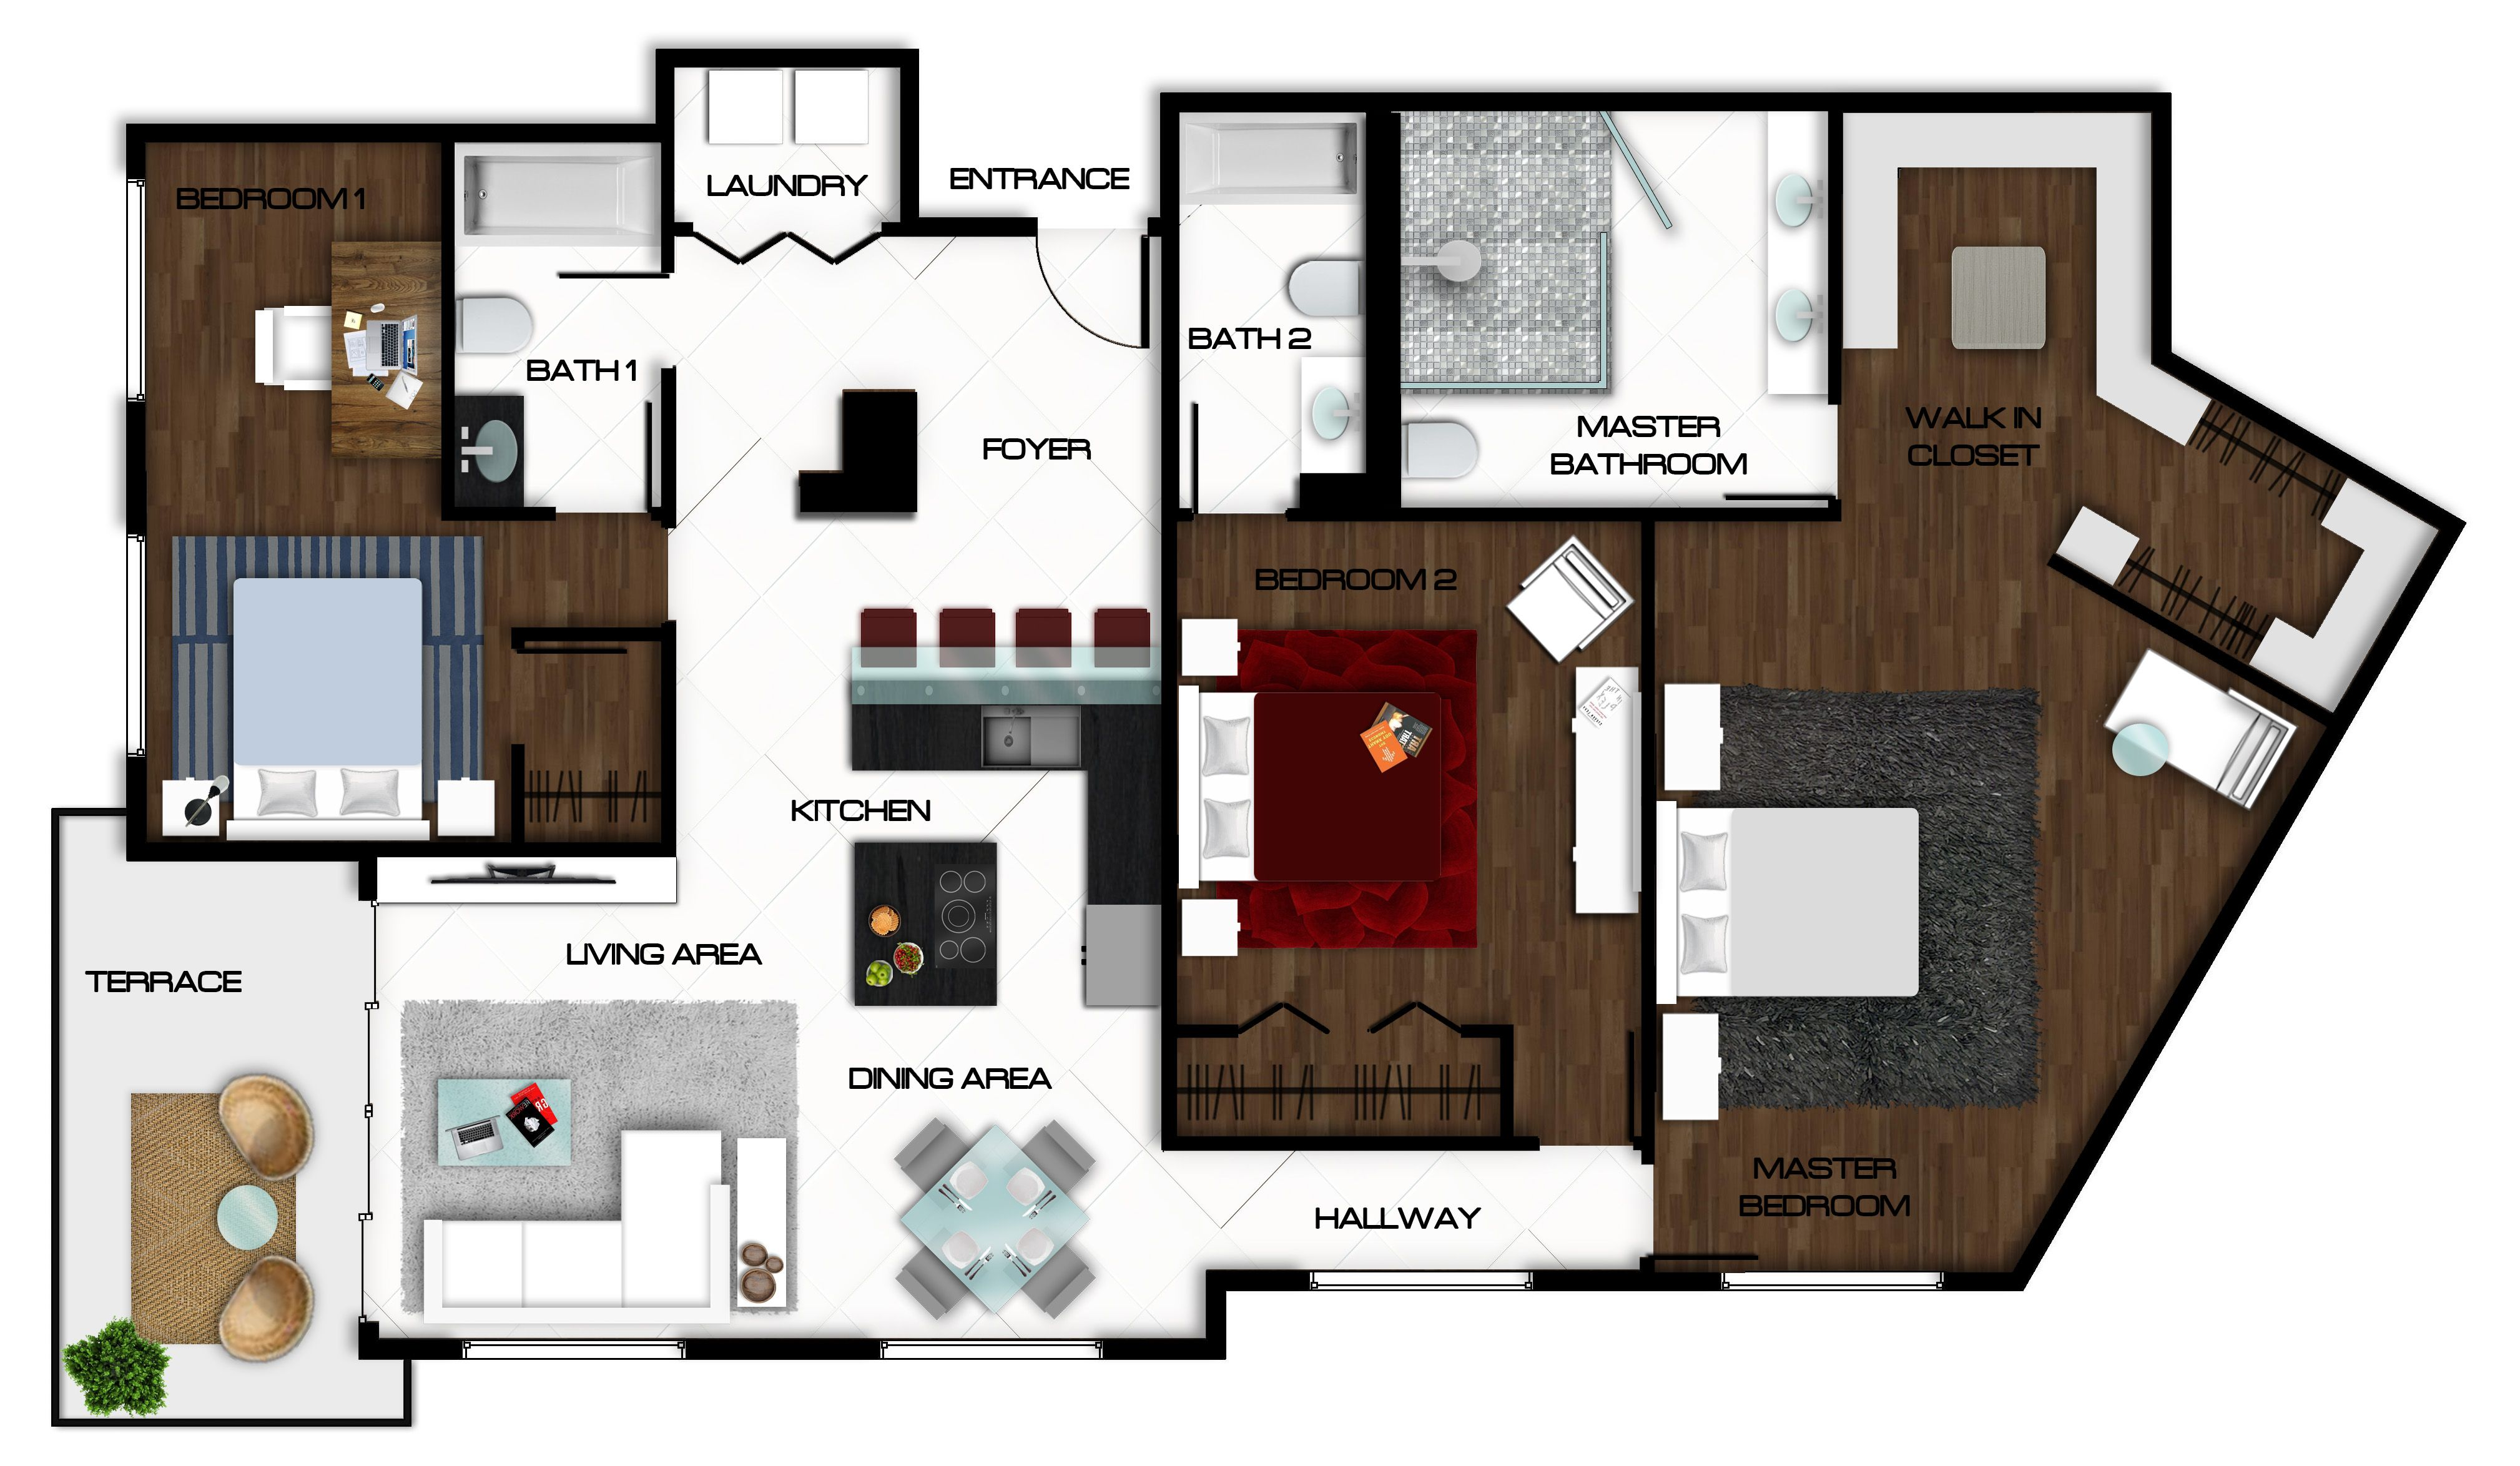room: (360, 906, 1181, 1358), (1161, 504, 1658, 1150), (1365, 91, 1843, 524), (127, 506, 675, 859), (440, 122, 675, 520), (1023, 239, 1157, 361)
window: (461, 1337, 688, 1363), (880, 1335, 1105, 1361), (1309, 1267, 1534, 1293), (1719, 1269, 1944, 1295), (124, 534, 147, 757), (126, 178, 147, 401)
